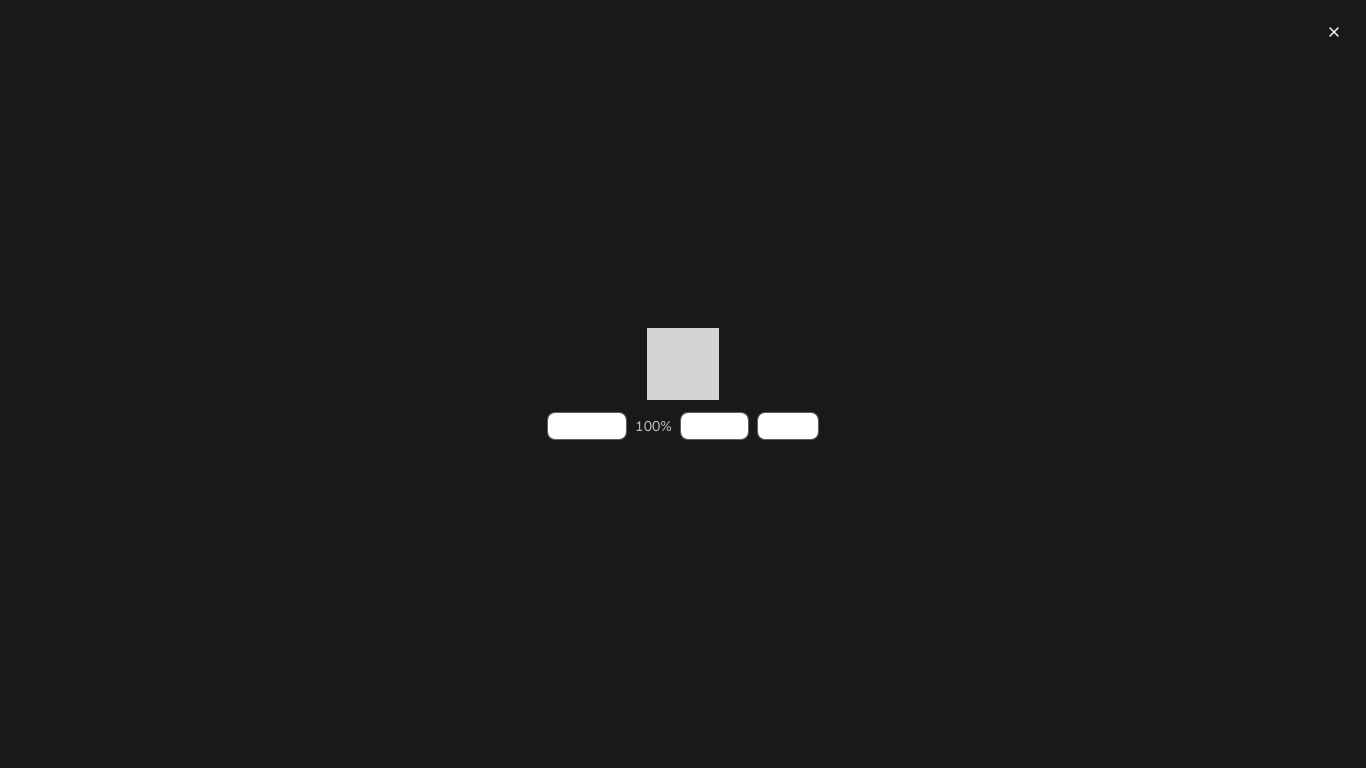
Scenario: ImageViewer › increases zoom on Zoom In click
Click the button "Zoom In" at (714, 426), box [680,412,749,440]
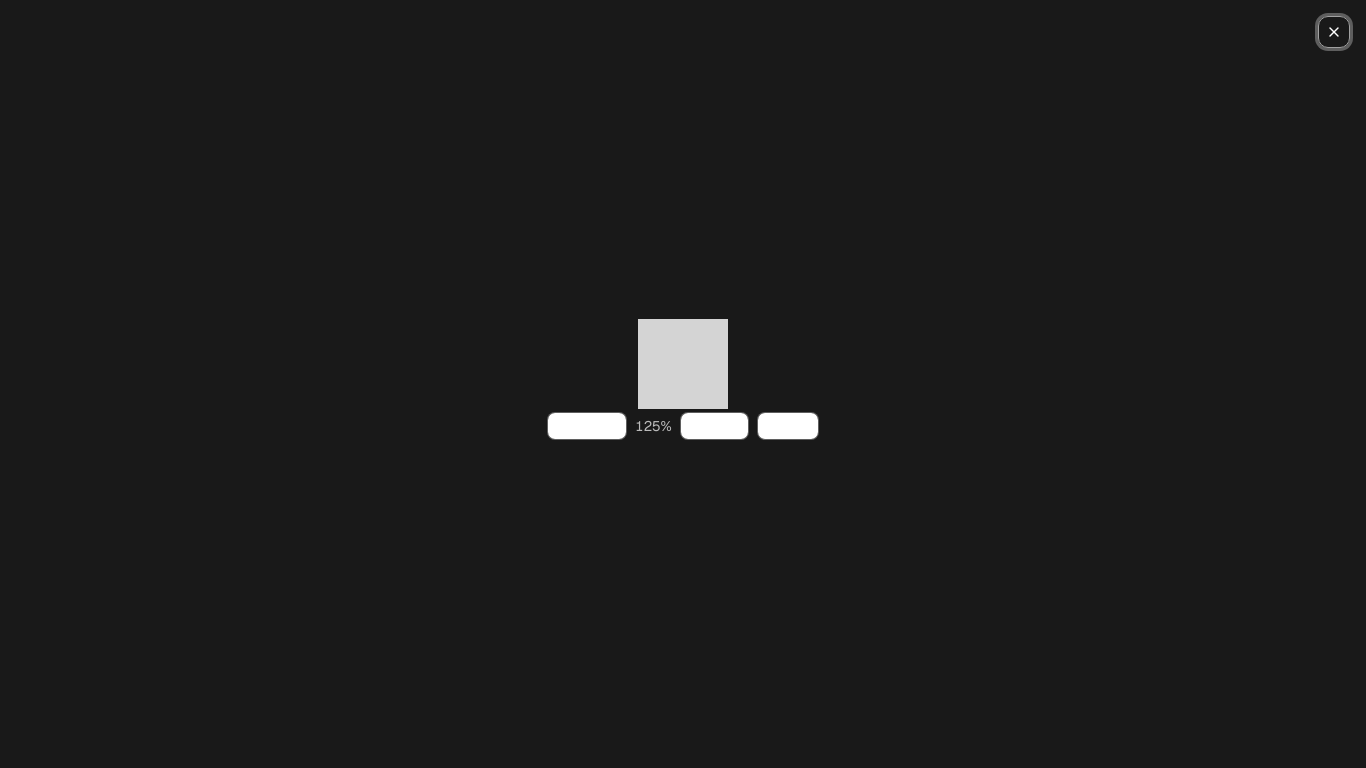
Now the text "125%" is shown, box [635,416,672,436]
